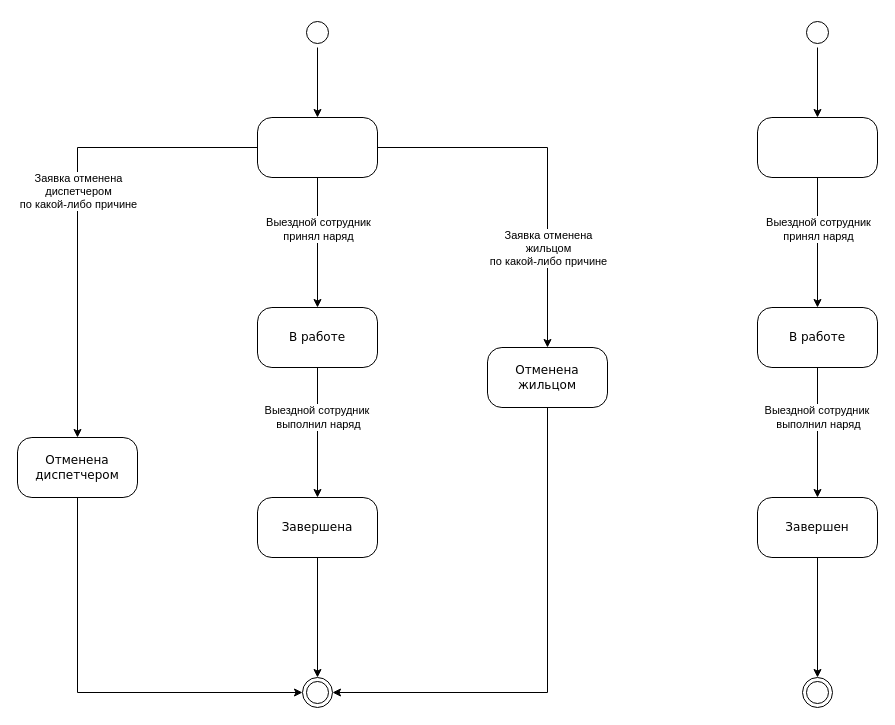
The diagram is 895 pixels wide and 725 high, and some of its shapes have lost their labels. Each missing label, with the centre of its shape:
"Новая" goes at point (317, 147).
"Новый" goes at point (817, 147).
